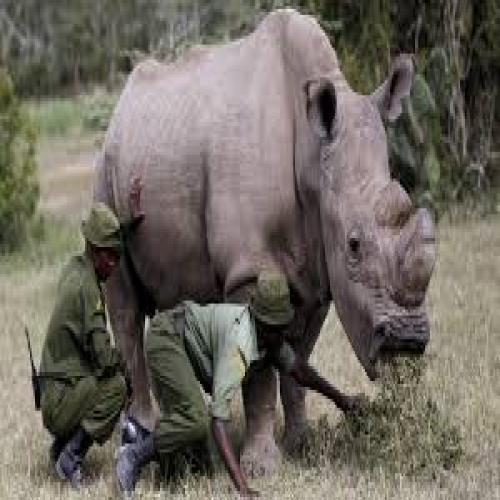rhino-endangered: (90, 10, 436, 459)
